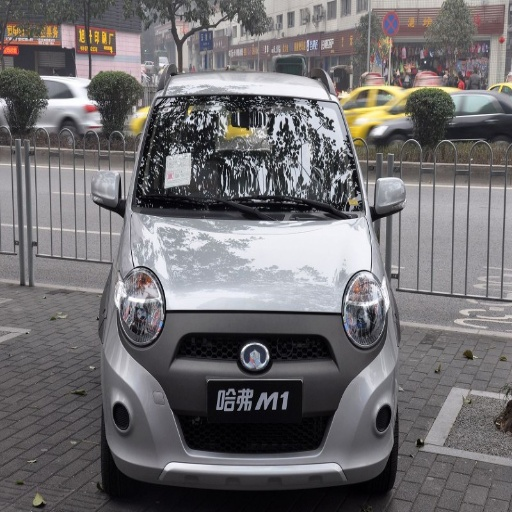front_bumper: (106, 311, 398, 482)
front_right_light: (114, 271, 164, 346)
hood: (129, 213, 373, 313)
left_mirror: (372, 178, 406, 219)
